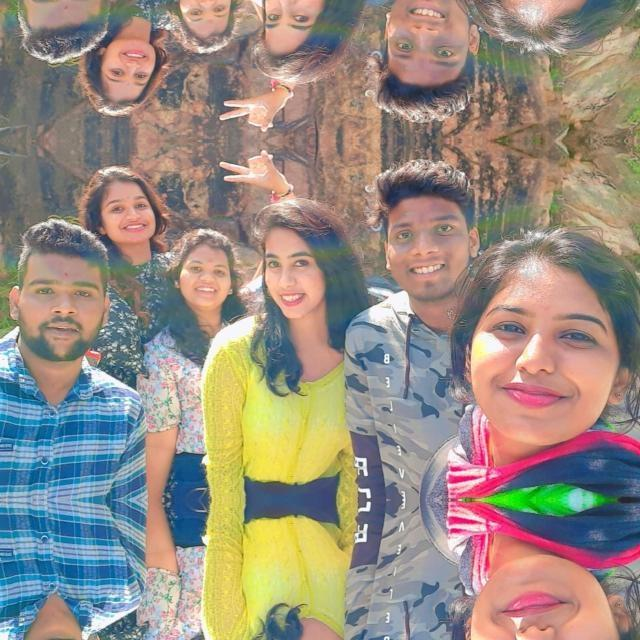person: (462, 235, 640, 499), (234, 192, 372, 500), (366, 152, 486, 484), (462, 500, 640, 640), (79, 154, 179, 370), (234, 499, 372, 640), (366, 0, 485, 127), (366, 515, 485, 640), (170, 210, 242, 388), (79, 0, 179, 125), (234, 0, 372, 87), (462, 0, 640, 45), (170, 0, 242, 69), (170, 611, 242, 640), (79, 629, 179, 640)
